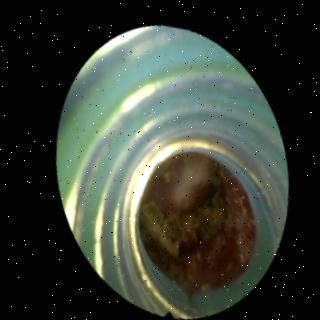stone: (137, 186, 223, 255)
